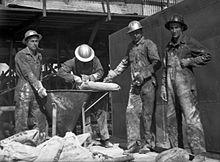helmet: (165, 15, 189, 31), (76, 44, 96, 63), (23, 31, 43, 44), (128, 22, 145, 35)
